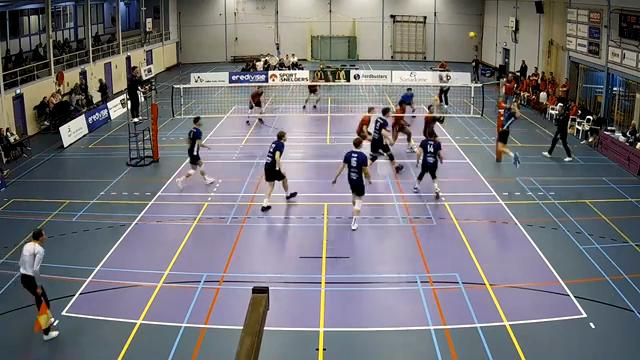attacco: (491, 92, 530, 169)
